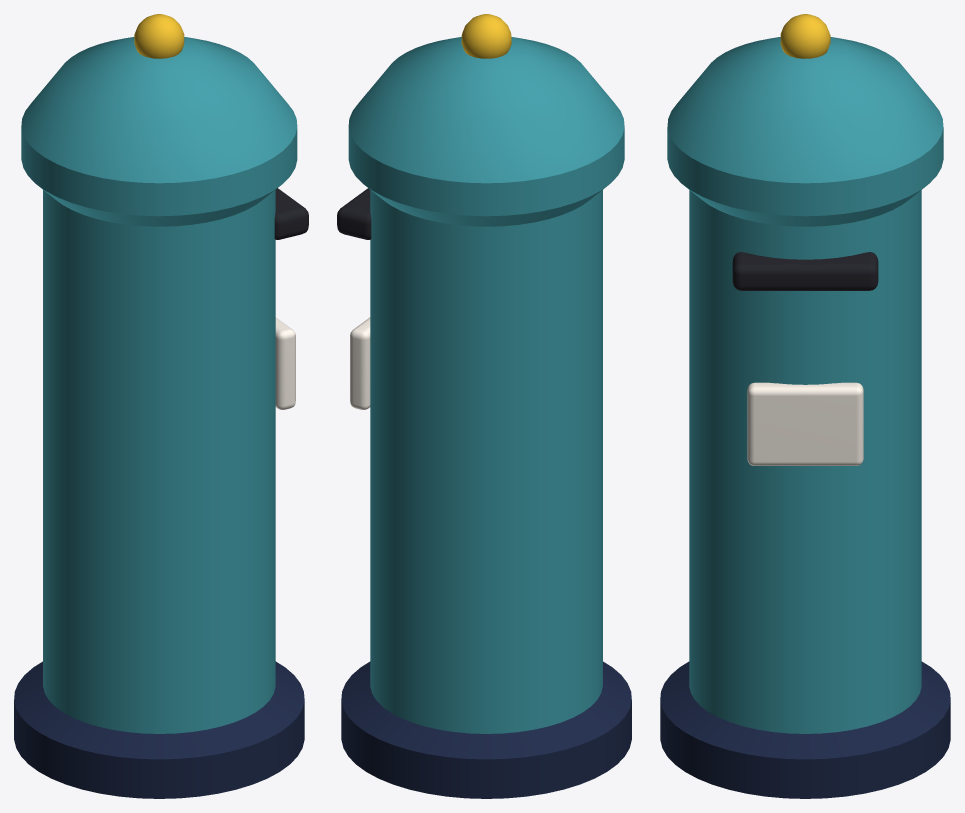
The model's file is mailbox.glb.
The picture shows the model from 3 angles, left to right: view 1: azimuth 30°, elevation 25°; view 2: azimuth 150°, elevation 25°; view 3: azimuth 270°, elevation 25°; orthographic projection.
Parts seen in each view (by area): view 1: mailbox; view 2: mailbox; view 3: mailbox.
Boxes of the visible parts, x1=… form: mailbox: x1=14, y1=14, x2=308, y2=798; mailbox: x1=337, y1=14, x2=631, y2=798; mailbox: x1=660, y1=14, x2=950, y2=798.
Bounding box in the file's own units: 0.3995 × 1.09 × 0.3998.
Materials: 1 (1 with a texture image).
